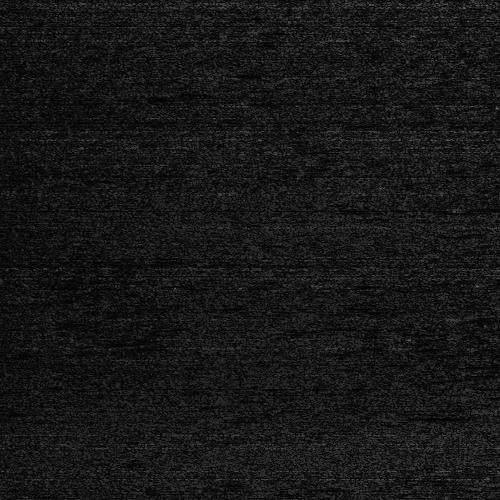rock: (473, 406, 500, 411)
